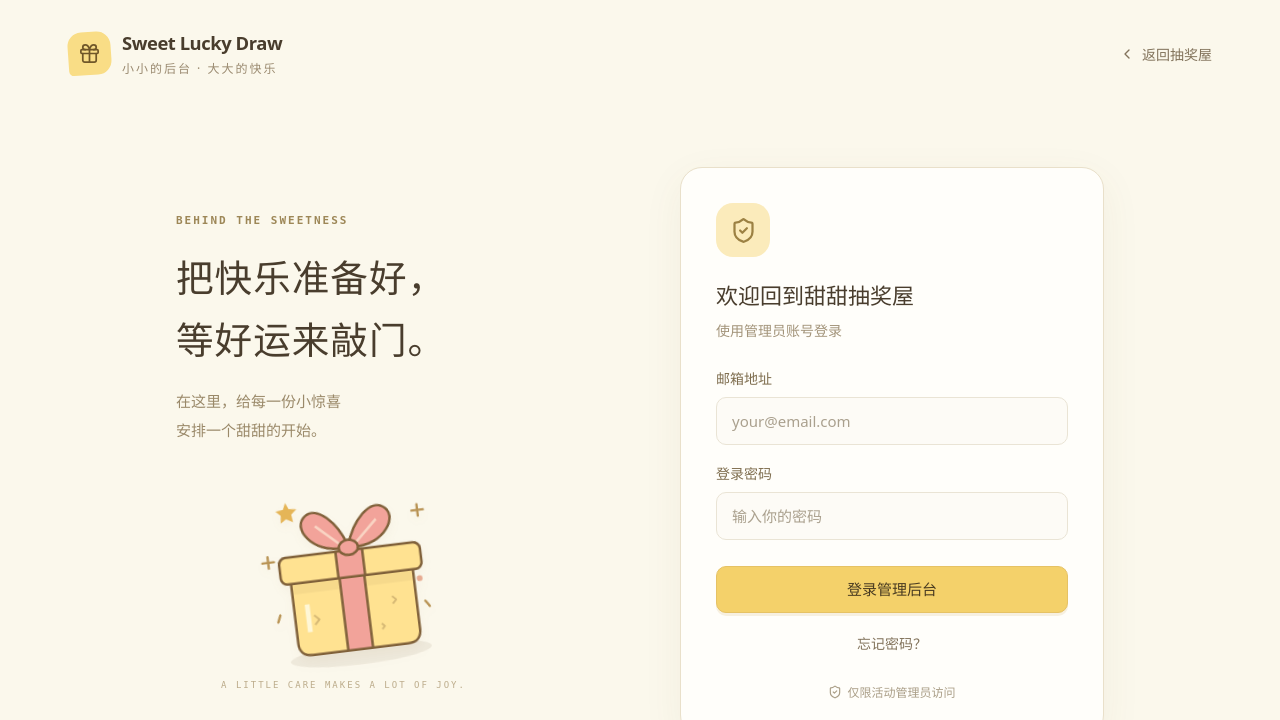
Test: admin session and permissions › requires a server identity and both admin RPCs before showing the dashboard
The image size is (1280, 720).
Type "admin@example.test" into the field labelled "邮箱地址" at (892,421), box x1=716 y1=397 x2=1068 y2=445
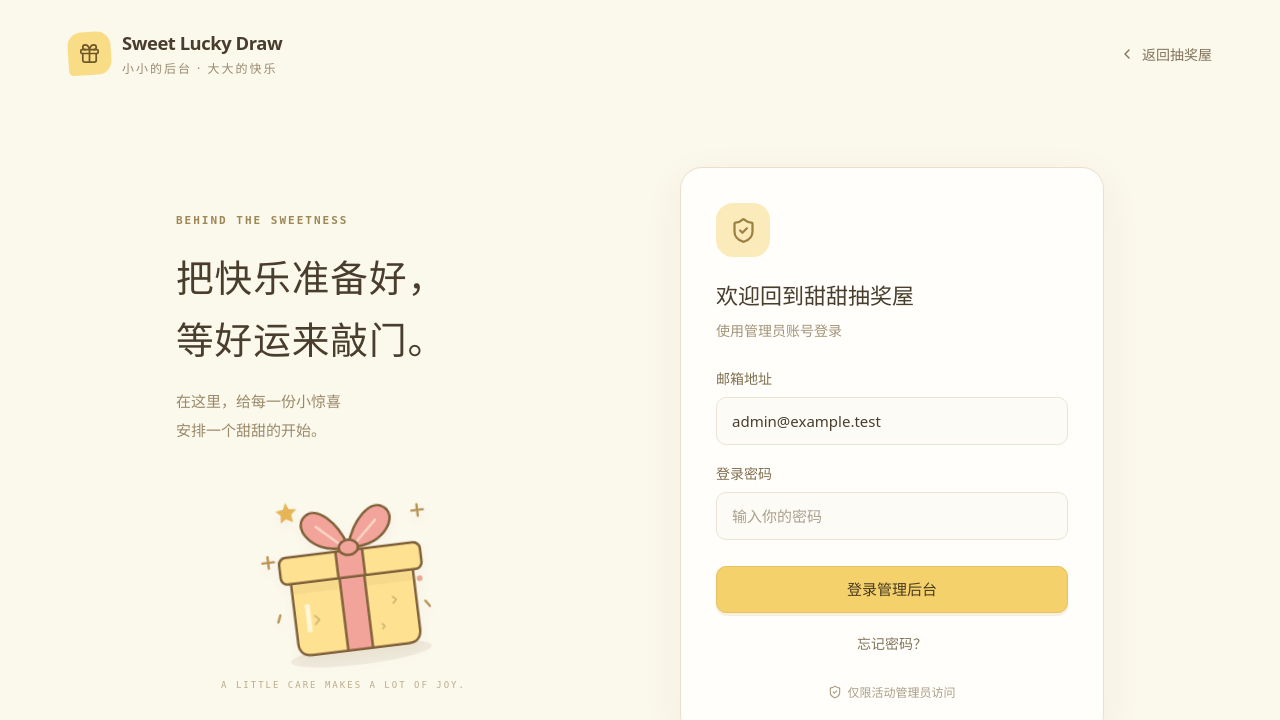
Type "only-in-memory" into the password field labelled "登录密码" at (892,516), box x1=716 y1=492 x2=1068 y2=540
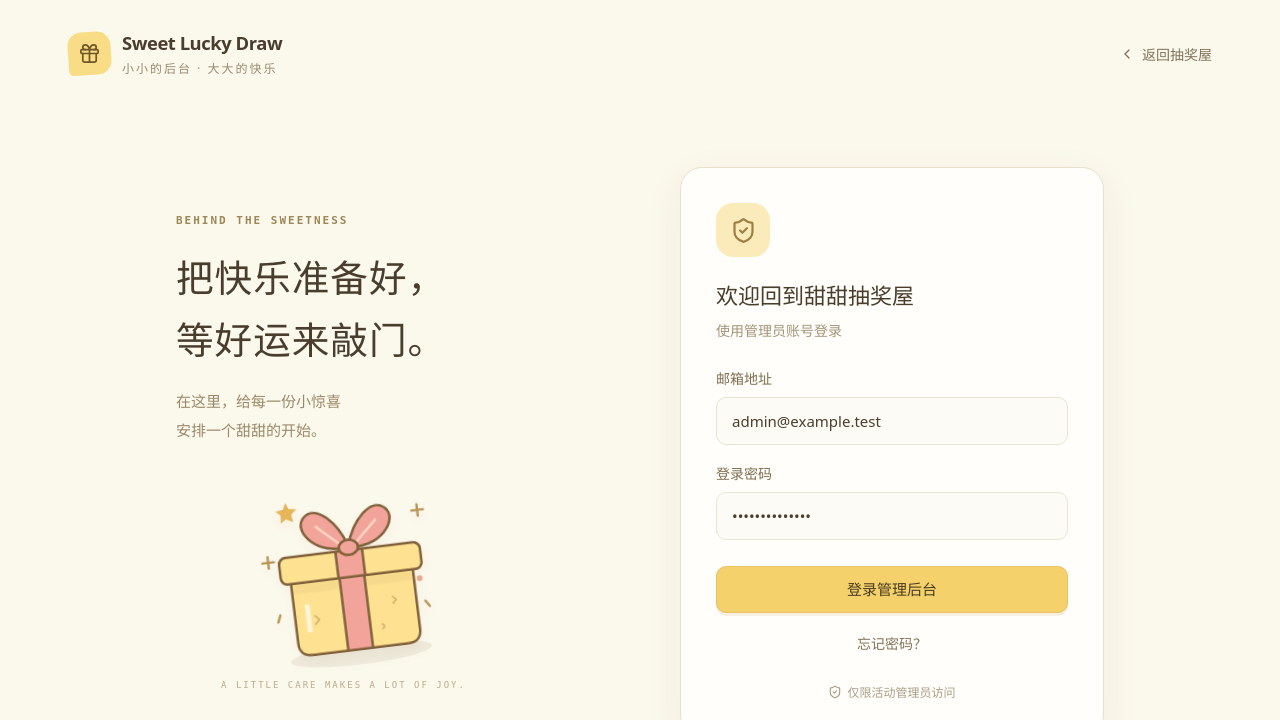
Click the button "登录管理后台" at (892,590), box x1=716 y1=566 x2=1068 y2=613
(page scrolled)
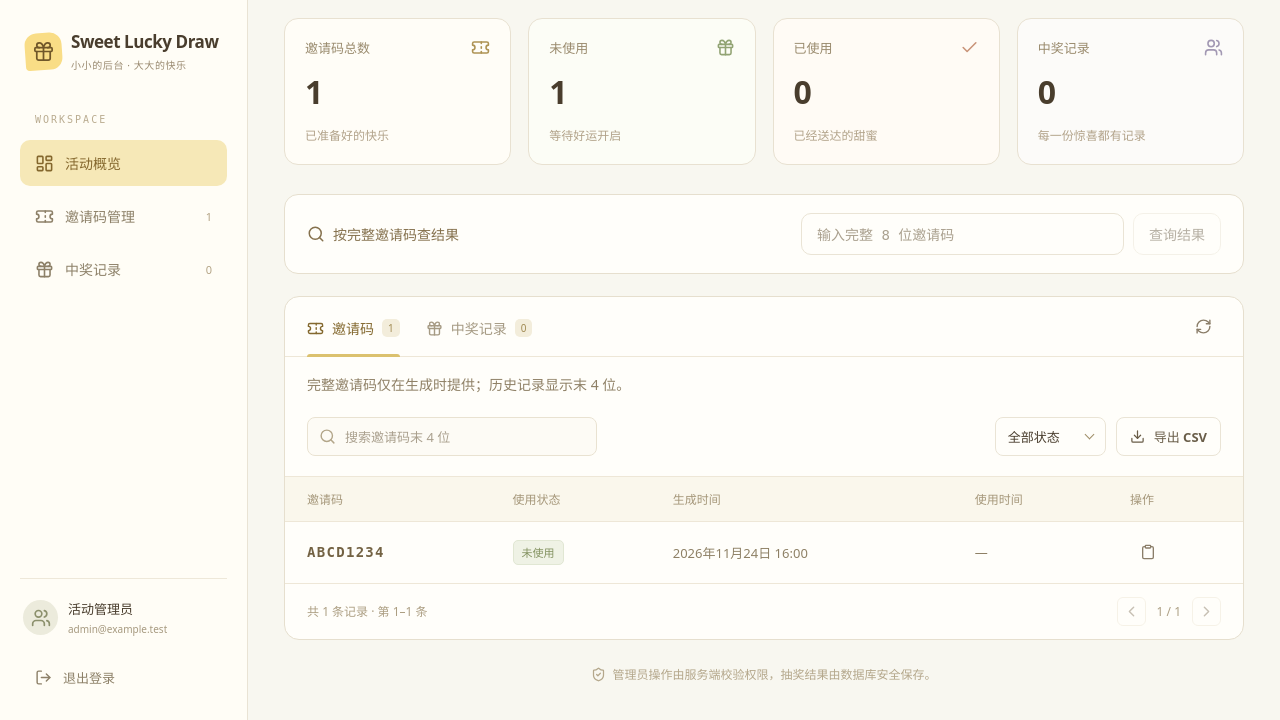
Expected: the text "ABCD1234" is shown, x1=307 y1=544 x2=385 y2=560
